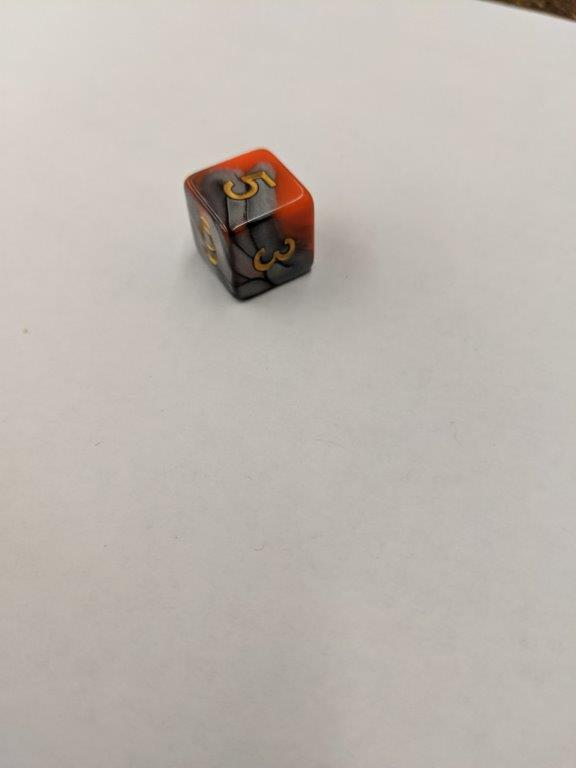d6-5: (183, 146, 317, 303)
